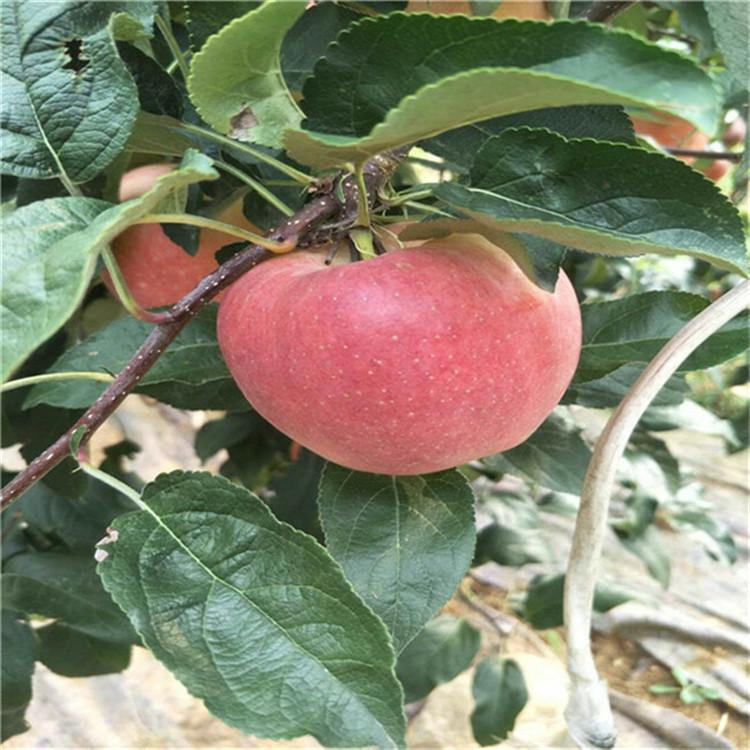apple: (217, 222, 584, 474)
